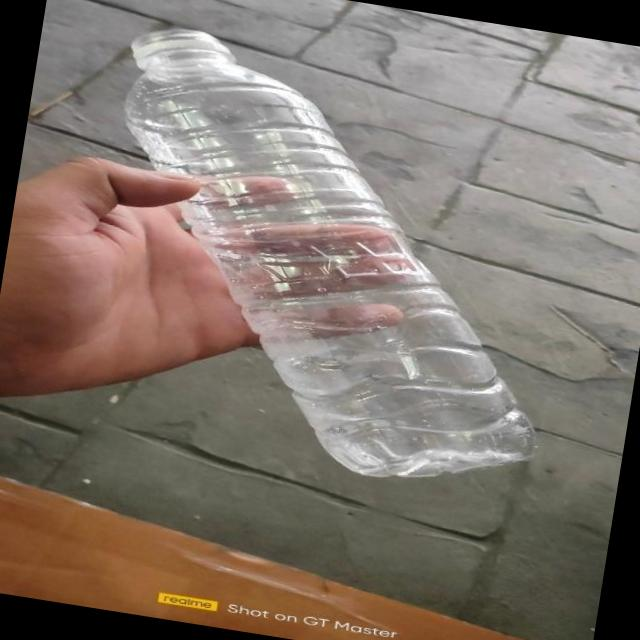plastic_bottle: (74, 22, 594, 501)
